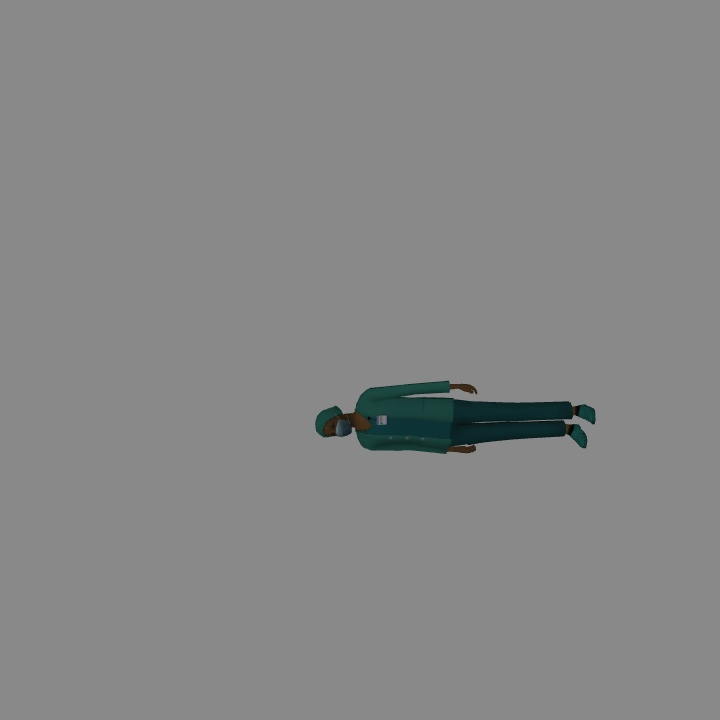victim: (318, 382, 597, 453)
